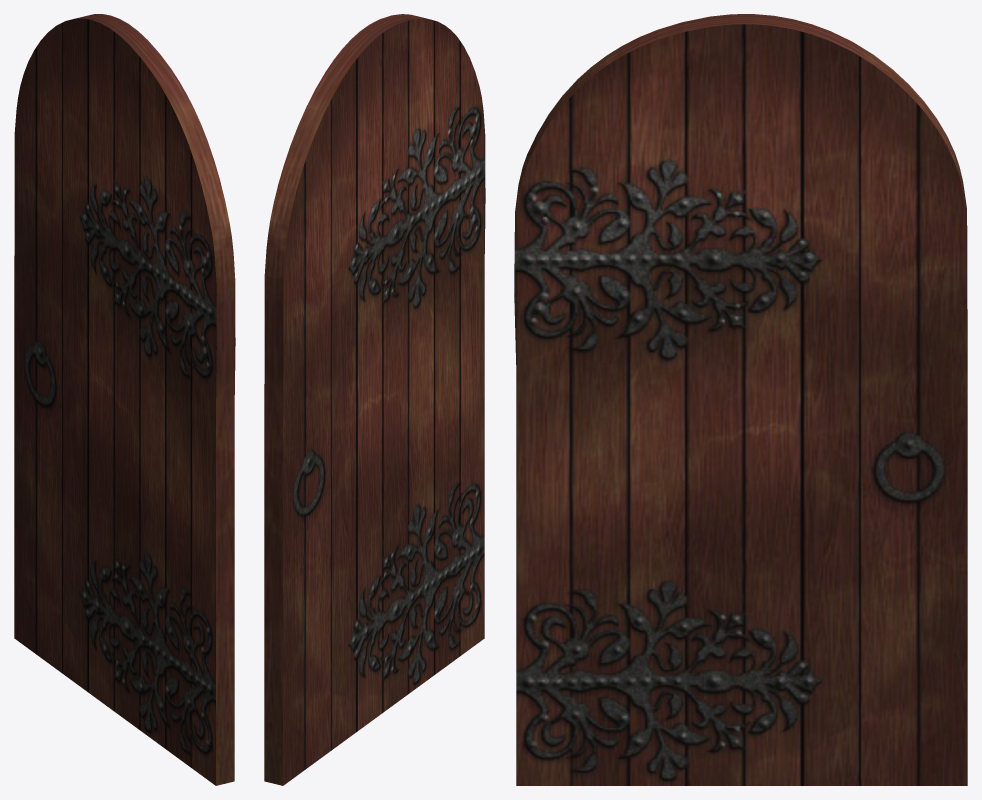
File: door.dae
3 views of the same model, side by side, from view 1: azimuth 30°, elevation 25°; view 2: azimuth 150°, elevation 25°; view 3: azimuth 270°, elevation 25° (orthographic). The views are drawn at different scales.
Visible parts, largest first — view 1: Door; view 2: Door; view 3: Door.
Boxes of the visible parts, x1,y1,x2,y2 form: Door: [14, 14, 235, 785]; Door: [264, 14, 485, 785]; Door: [514, 14, 967, 785].
Bounding box in the file's own units: 0.2901 × 5.44 × 10.08.
1 material, 1 textured.
